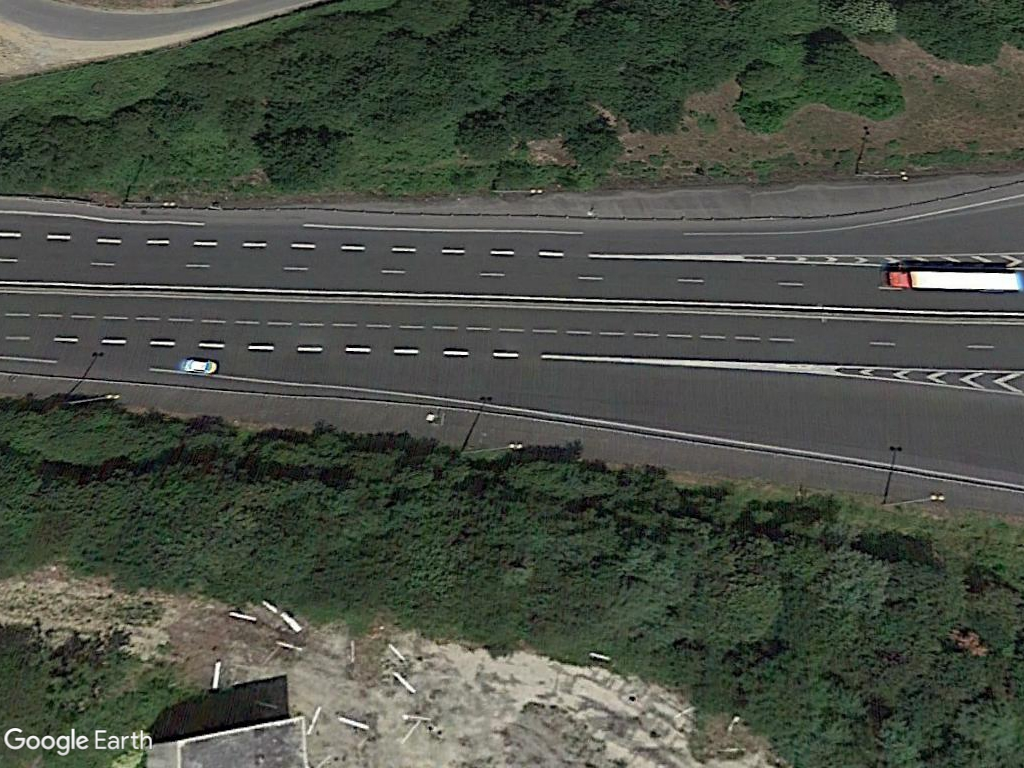car: (177, 353, 224, 376)
longvehicle: (880, 262, 1024, 294)
